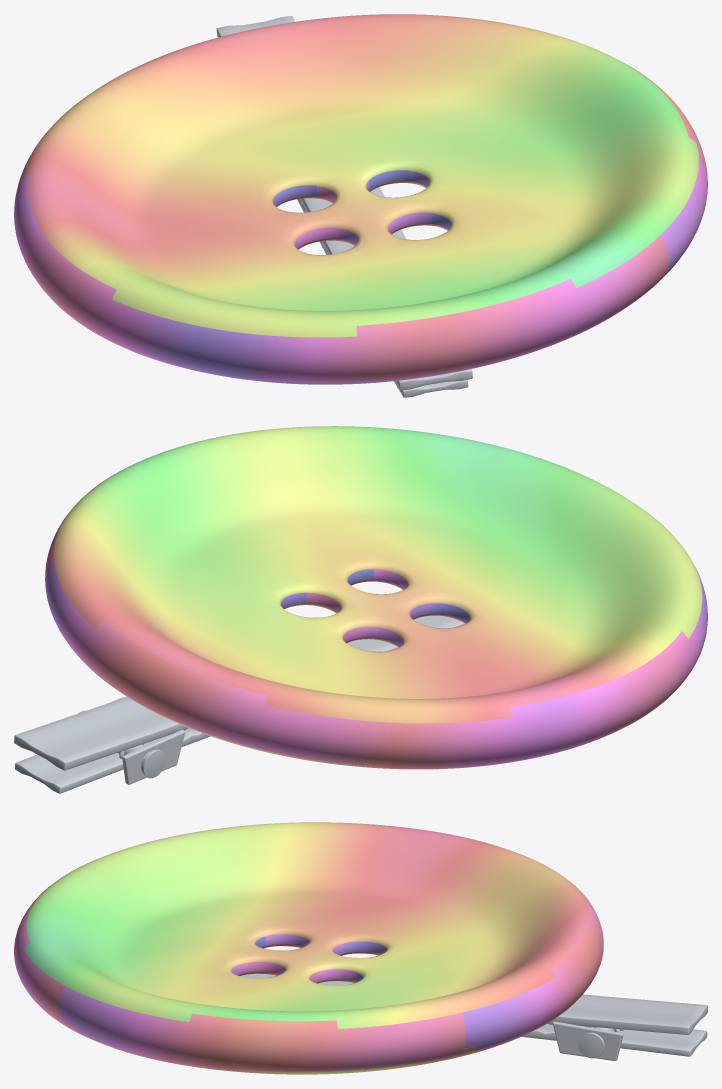
The model's file is HairClip_Holographic.glb.
3 views of the same model, one above another, from view 1: azimuth 30°, elevation 25°; view 2: azimuth 150°, elevation 25°; view 3: azimuth 270°, elevation 25° (orthographic). The views are drawn at different scales.
Visible parts, largest first — view 1: HairClip_Holographic__Pink_Four_Hole_Button, HairClip_Holographic__Fixed_Serrated_Jaw, HairClip_Holographic__Moving_Jaw_Static_Pose; view 2: HairClip_Holographic__Pink_Four_Hole_Button, HairClip_Holographic__Fixed_Serrated_Jaw, HairClip_Holographic__Moving_Jaw_Static_Pose, HairClip_Holographic__Pivot_Cheek_L; view 3: HairClip_Holographic__Pink_Four_Hole_Button, HairClip_Holographic__Fixed_Serrated_Jaw, HairClip_Holographic__Moving_Jaw_Static_Pose, HairClip_Holographic__Pivot_Cheek_R, HairClip_Holographic__Pivot_Head_R.
Boxes of the visible parts, <box> form: HairClip_Holographic__Pink_Four_Hole_Button: <box>14,14,707,384</box>; HairClip_Holographic__Fixed_Serrated_Jaw: <box>216,16,472,390</box>; HairClip_Holographic__Moving_Jaw_Static_Pose: <box>297,199,468,397</box>; HairClip_Holographic__Pink_Four_Hole_Button: <box>45,426,707,769</box>; HairClip_Holographic__Fixed_Serrated_Jaw: <box>14,615,464,770</box>; HairClip_Holographic__Moving_Jaw_Static_Pose: <box>15,728,210,793</box>; HairClip_Holographic__Pivot_Cheek_L: <box>122,729,185,784</box>; HairClip_Holographic__Pink_Four_Hole_Button: <box>14,822,603,1074</box>; HairClip_Holographic__Fixed_Serrated_Jaw: <box>240,973,707,1034</box>; HairClip_Holographic__Moving_Jaw_Static_Pose: <box>522,1023,707,1056</box>; HairClip_Holographic__Pivot_Cheek_R: <box>552,1021,623,1060</box>; HairClip_Holographic__Pivot_Head_R: <box>578,1032,604,1058</box>.
Size of the model in its own units: 39.77 by 7.94 by 46.91.
2 materials, 2 textured.
